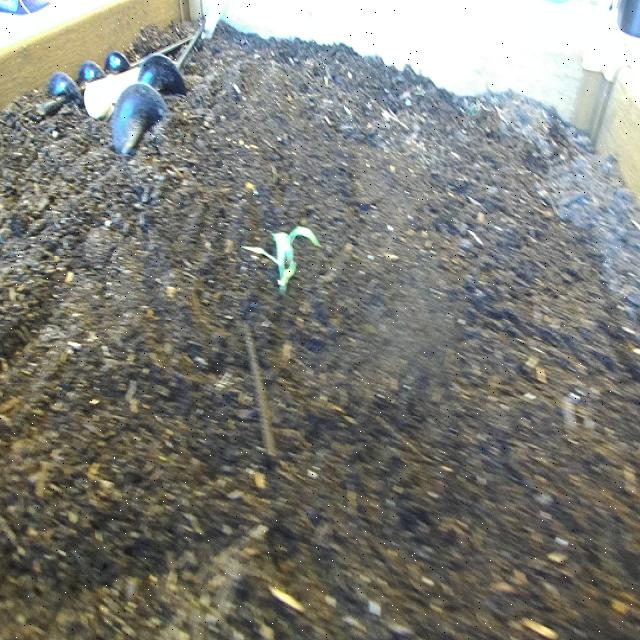Healthy: (239, 204, 328, 316)
